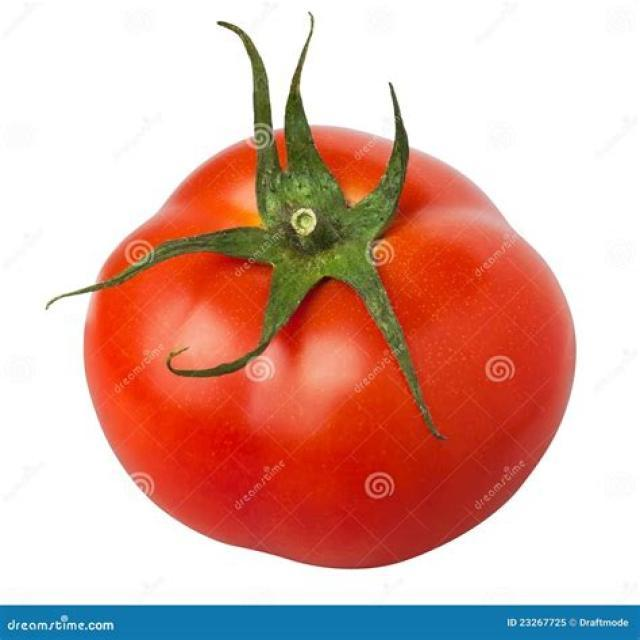Tomato: (73, 16, 579, 572)
